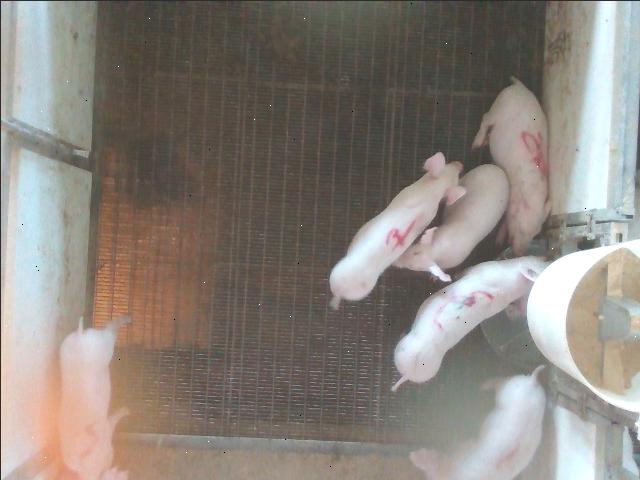pig-1: (450, 365, 545, 479)
pig-2: (59, 315, 128, 478)
pig-3: (391, 255, 548, 389)
pig-4: (329, 151, 465, 308)
pig-5: (471, 76, 550, 254)
